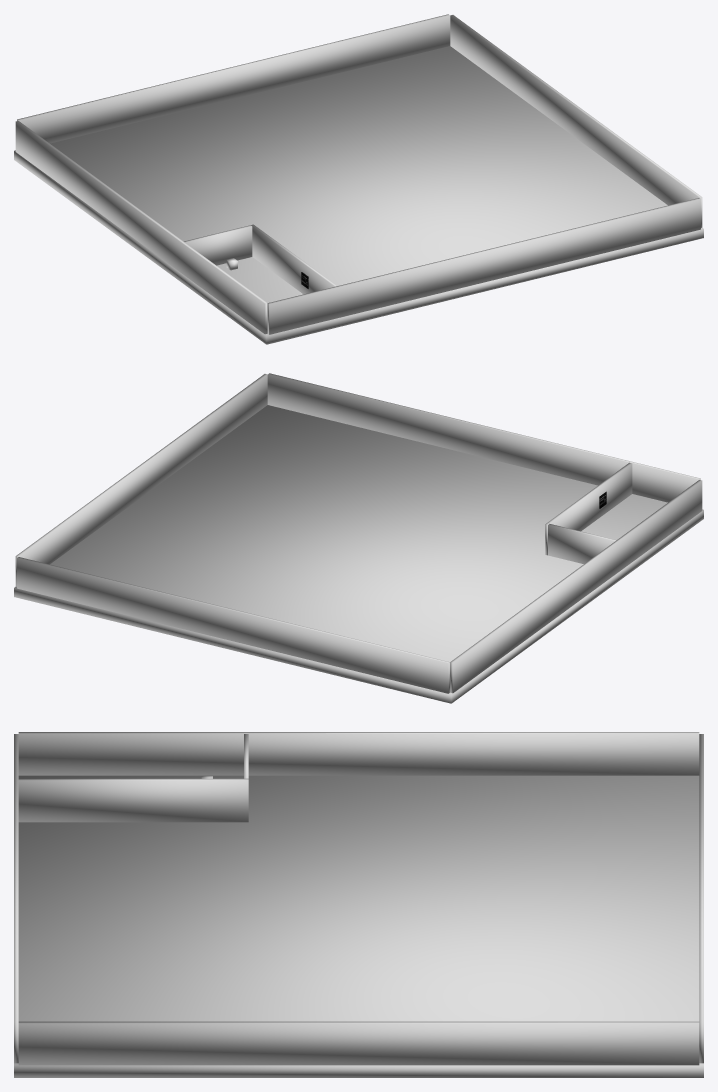
File: Level2.fbx
3 views of the same model, one above another, from view 1: azimuth 30°, elevation 25°; view 2: azimuth 150°, elevation 25°; view 3: azimuth 270°, elevation 25° (orthographic). The views are drawn at different scales.
Visible parts, largest first — view 1: Floor, Walls, Walls.2, Walls.4, Walls.3, Cube.5, Cube.1; view 2: Floor, Walls.2, Walls, Walls.4, Walls.3, Cube.5, Cube.1; view 3: Floor, Walls.3, Walls.4, Cube.5, Walls, Walls.2.
Part boxes in pixels (left/top/right/bottom): Floor: left=14, top=46, right=703, bottom=344; Walls: left=267, top=198, right=700, bottom=334; Walls.2: left=17, top=14, right=450, bottom=143; Walls.4: left=15, top=121, right=267, bottom=334; Walls.3: left=450, top=15, right=702, bottom=227; Cube.5: left=251, top=224, right=336, bottom=294; Cube.1: left=184, top=225, right=252, bottom=265; Floor: left=14, top=405, right=703, bottom=703; Walls.2: left=17, top=557, right=450, bottom=693; Walls: left=267, top=373, right=700, bottom=502; Walls.4: left=450, top=480, right=702, bottom=693; Walls.3: left=15, top=374, right=267, bottom=586; Cube.5: left=545, top=462, right=632, bottom=555; Cube.1: left=548, top=524, right=616, bottom=563; Floor: left=14, top=775, right=703, bottom=1077; Walls.3: left=18, top=1021, right=699, bottom=1065; Walls.4: left=18, top=732, right=699, bottom=775; Cube.5: left=18, top=778, right=248, bottom=822; Walls: left=14, top=734, right=18, bottom=1063; Walls.2: left=699, top=734, right=703, bottom=1063.
Size of what is drawn, in the model's own units: 3000 by 260 by 3000.
Materials: 2 (1 with a texture image).
